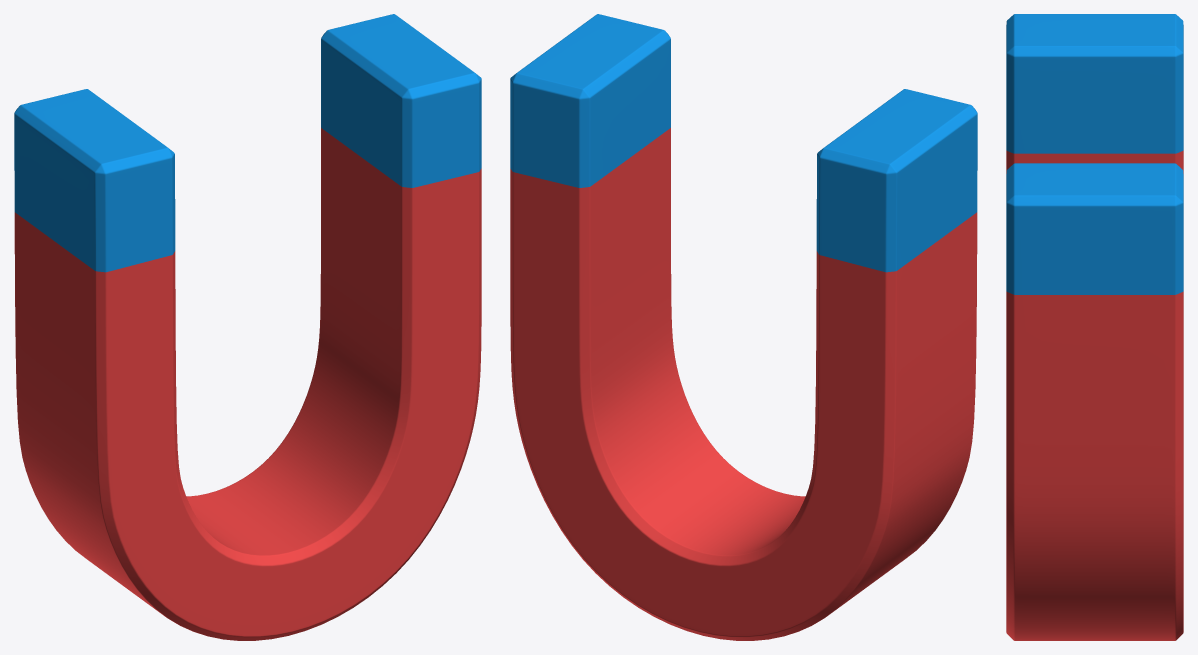
File: Magnet.fbx
3 views of the same model, side by side, from view 1: azimuth 30°, elevation 25°; view 2: azimuth 150°, elevation 25°; view 3: azimuth 270°, elevation 25° (orthographic).
Parts seen in each view (by area): view 1: Circle.007; view 2: Circle.007; view 3: Circle.007.
Part boxes in pixels (x1,y1,x2,y2): Circle.007: (14, 14, 481, 640); Circle.007: (510, 14, 977, 640); Circle.007: (1006, 14, 1183, 640).
Size of the model in its own units: 549 by 218 by 701.
